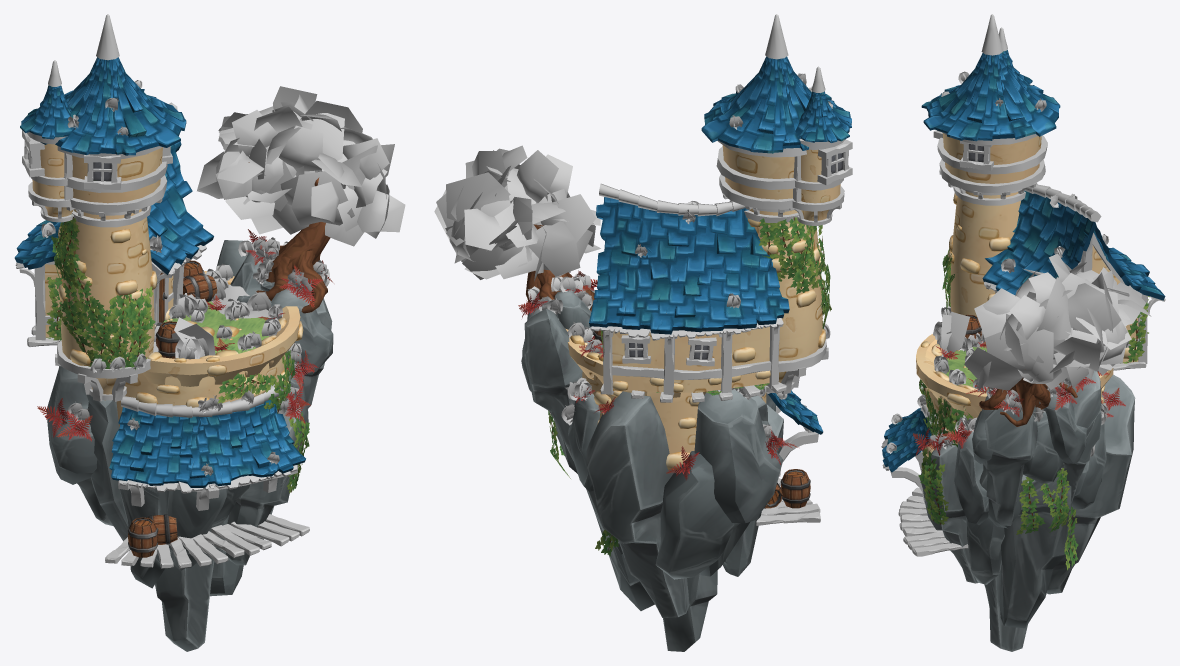
The model's file is stylised-sky-player-home-dioroma.fbx.
3 views of the same model, side by side, from view 1: azimuth 30°, elevation 25°; view 2: azimuth 150°, elevation 25°; view 3: azimuth 270°, elevation 25° (orthographic). The views are drawn at different scales.
Parts seen in each view (by area): view 1: roof, rocks, leaves, tower base, wood structure, klimop, grass, base tower, wood beams, barrels, stone details, ferns (+5 smaller); view 2: rocks, roof, leaves, wood structure, tower base, house base, klimop, grass, stone details, base tower, windows, wood beams (+4 smaller); view 3: rocks, roof, leaves, tower base, klimop, wood structure, grass, wood beams, base tower, ferns, stone details, tree trunk (+3 smaller).
Boxes of the visible parts, left/top/right/bottom form: roof: left=14, top=14, right=305, bottom=487; rocks: left=46, top=240, right=333, bottom=651; leaves: left=171, top=86, right=405, bottom=358; tower base: left=32, top=144, right=162, bottom=400; wood structure: left=19, top=132, right=298, bottom=510; klimop: left=46, top=214, right=309, bottom=493; grass: left=41, top=80, right=329, bottom=475; base tower: left=116, top=271, right=300, bottom=427; wood beams: left=27, top=325, right=309, bottom=568; barrels: left=127, top=260, right=217, bottom=557; stone details: left=58, top=226, right=303, bottom=407; ferns: left=37, top=229, right=332, bottom=441; rocks: left=521, top=289, right=783, bottom=651; roof: left=589, top=14, right=851, bottom=434; leaves: left=434, top=145, right=600, bottom=281; wood structure: left=603, top=139, right=845, bottom=476; tower base: left=722, top=145, right=840, bottom=385; house base: left=612, top=326, right=769, bottom=392; klimop: left=548, top=217, right=831, bottom=556; grass: left=527, top=73, right=832, bottom=440; stone details: left=570, top=218, right=825, bottom=469; base tower: left=565, top=309, right=766, bottom=453; windows: left=621, top=139, right=852, bottom=366; wood beams: left=600, top=382, right=820, bottom=525; rocks: left=919, top=371, right=1135, bottom=651; roof: left=882, top=14, right=1165, bottom=472; leaves: left=937, top=253, right=1151, bottom=392; tower base: left=942, top=133, right=1041, bottom=316; klimop: left=918, top=248, right=1149, bottom=570; wood structure: left=885, top=84, right=1158, bottom=503; grass: left=886, top=71, right=1108, bottom=456; wood beams: left=898, top=362, right=1146, bottom=556; base tower: left=916, top=334, right=1113, bottom=448; ferns: left=913, top=341, right=1125, bottom=455; stone details: left=921, top=192, right=1137, bottom=458; tree trunk: left=979, top=369, right=1077, bottom=426.
Bounding box in the file's own units: 179 × 298 × 129.
